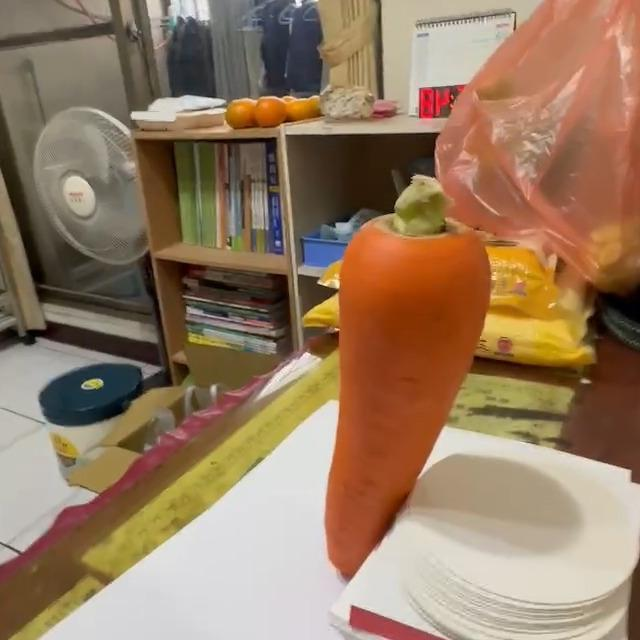carrot: (311, 177, 491, 580)
